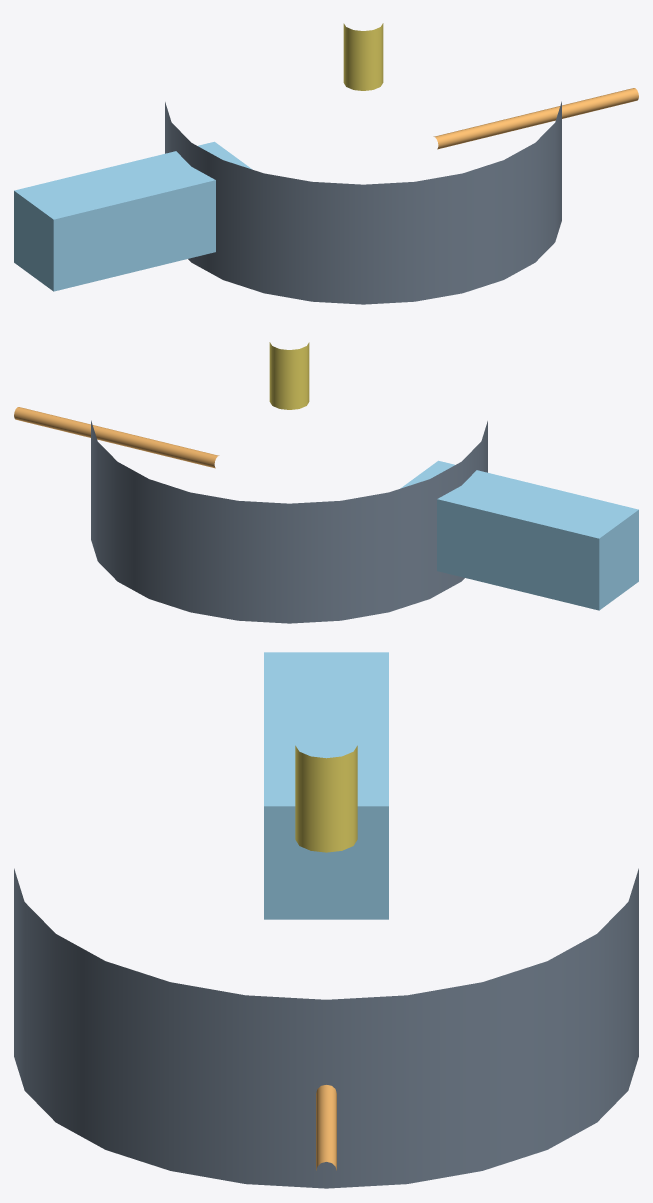
File: galvanometer_ammeter_voltmeter_conversion.glb
3 renders of one model, top to bottom at view 1: azimuth 30°, elevation 25°; view 2: azimuth 150°, elevation 25°; view 3: azimuth 270°, elevation 25°, orthographic. The views are drawn at different scales.
Parts seen in each view (by area): view 1: WestonTypeGalvanometerDial, HighResistanceSeriesMultiplierR, LowResistanceParallelShuntWire, CalibratedTwinBindingPosts; view 2: WestonTypeGalvanometerDial, HighResistanceSeriesMultiplierR, LowResistanceParallelShuntWire, CalibratedTwinBindingPosts; view 3: WestonTypeGalvanometerDial, HighResistanceSeriesMultiplierR, CalibratedTwinBindingPosts, LowResistanceParallelShuntWire.
Part boxes in pixels (x1,y1,x2,y2): WestonTypeGalvanometerDial: (165, 101, 561, 304); HighResistanceSeriesMultiplierR: (14, 141, 252, 291); LowResistanceParallelShuntWire: (433, 88, 638, 149); CalibratedTwinBindingPosts: (343, 23, 383, 90); WestonTypeGalvanometerDial: (91, 420, 487, 623); HighResistanceSeriesMultiplierR: (400, 460, 638, 610); LowResistanceParallelShuntWire: (14, 407, 219, 468); CalibratedTwinBindingPosts: (269, 342, 309, 409); WestonTypeGalvanometerDial: (14, 868, 638, 1188); HighResistanceSeriesMultiplierR: (264, 652, 388, 919); CalibratedTwinBindingPosts: (295, 745, 357, 852); LowResistanceParallelShuntWire: (316, 1085, 336, 1170).
Size of the model in its own units: 1.05 by 0.33 by 0.6.
